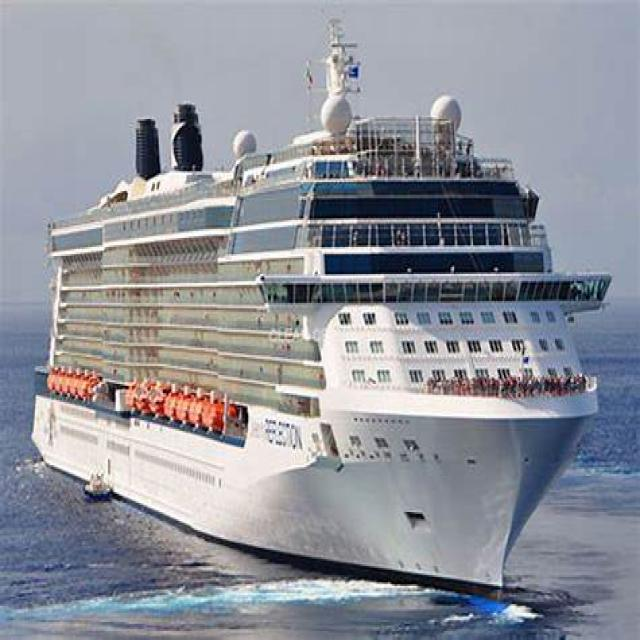PassengerShip: (9, 78, 610, 598)
